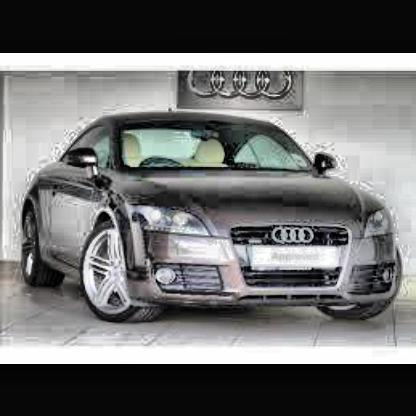Audi TTS Coupe 2012: (20, 111, 408, 326)
